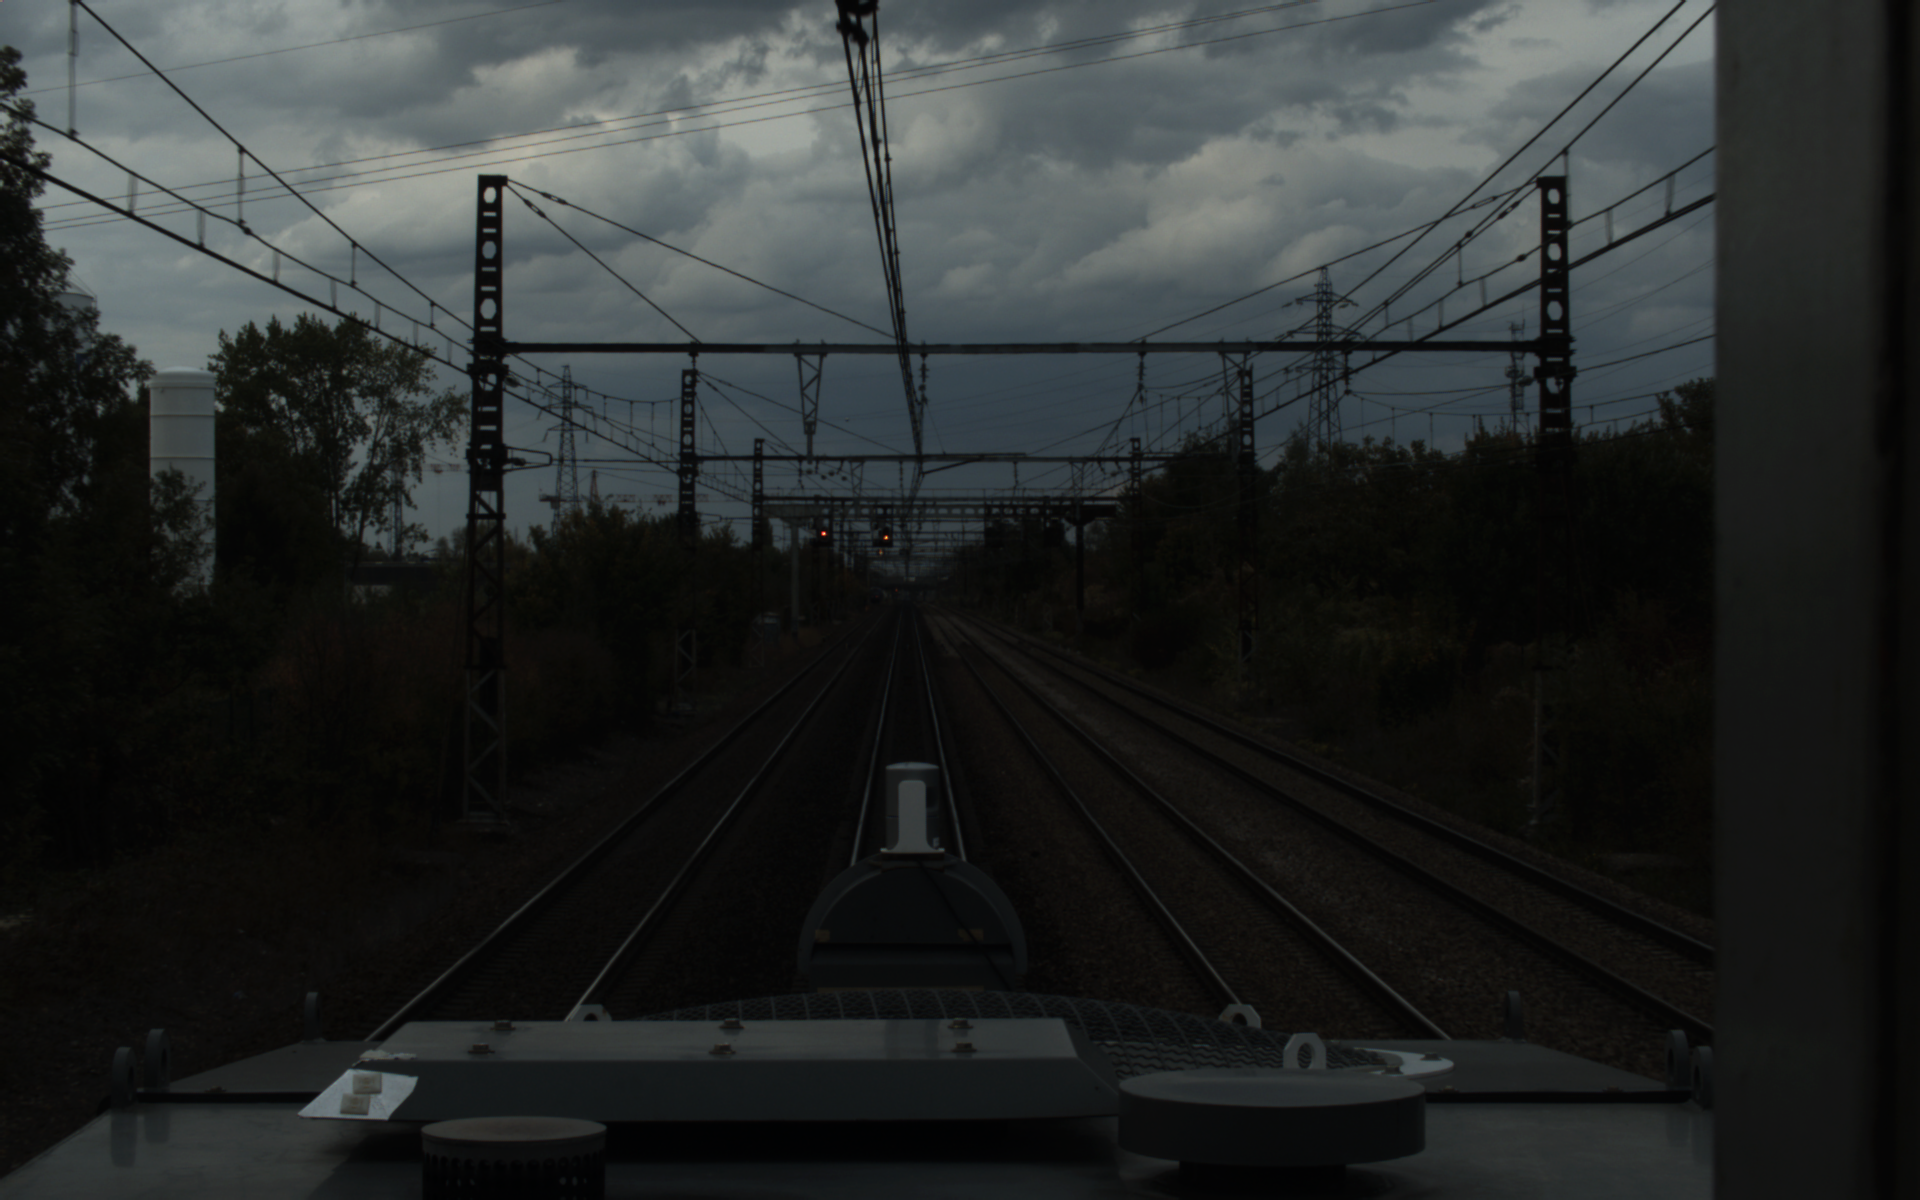Blinking: (878, 525, 892, 543)
Fixed: (816, 524, 829, 543)
